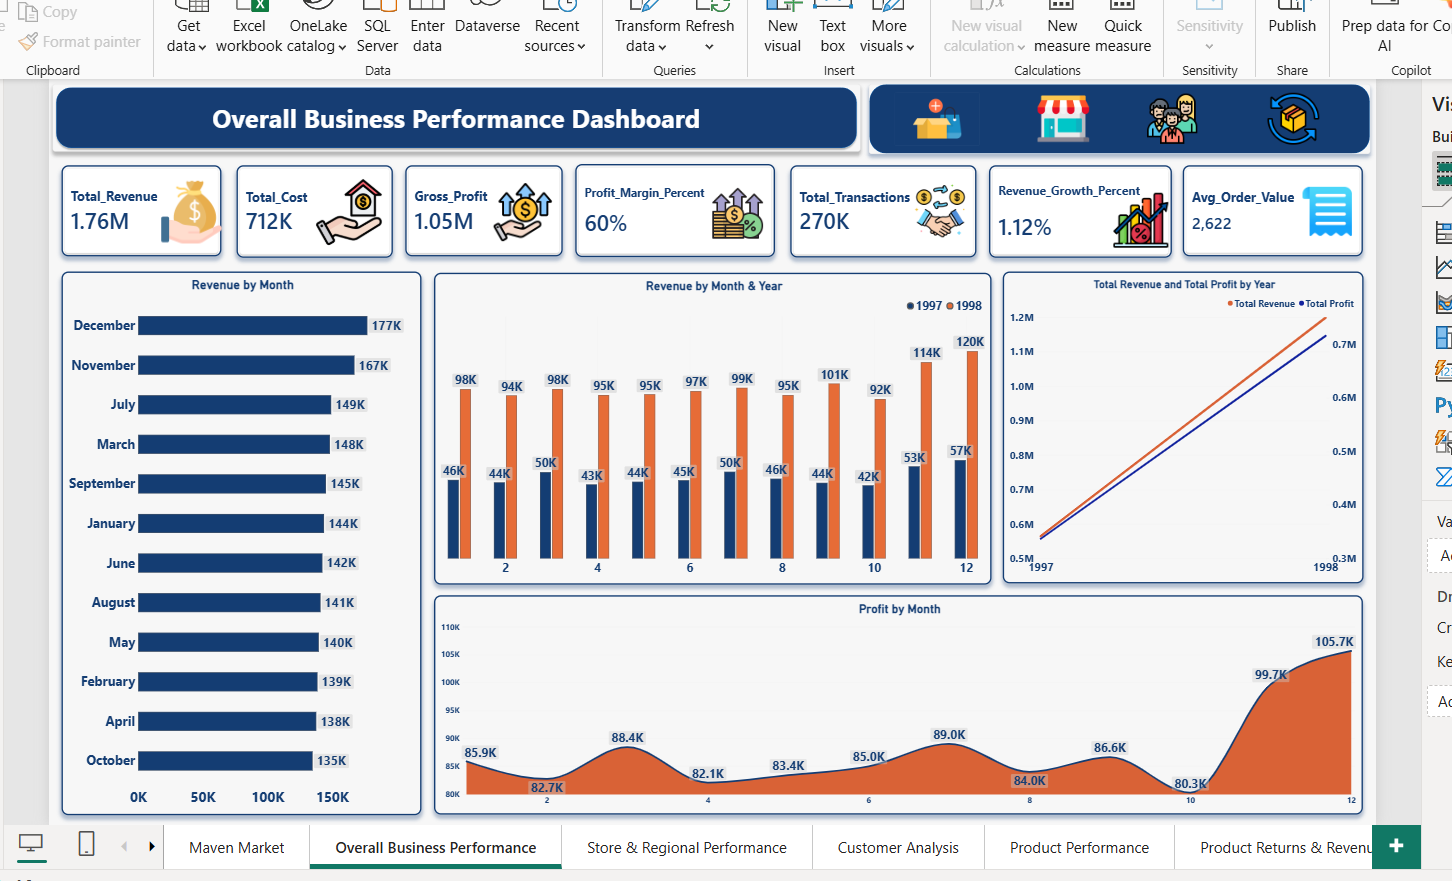

What the dashboard file says about the page in this screenshot:
{"tool":"powerbi","page":{"name":"Overall Business Performance","canvas":[3840,2160],"ordinal":1},"visuals":[{"type":"shape","box":[10.9,14.5,2338.1,195.4],"z":0},{"type":"cardVisual","fields":{"Data":["Sum(A_Query1.Total_Revenue)"]},"box":[36.2,249.7,463.3,264.2],"z":1000,"group":"g2"},{"type":"clusteredBarChart","title":"Revenue by Month","fields":{"Category":["A_Query2.Month"],"Y":["Sum(A_Query2.Revenue)"]},"box":[36.2,557.4,1042.4,1574.4],"z":1000},{"type":"cardVisual","fields":{"Data":["Sum(A_Query1.Total_Cost)"]},"box":[542.9,249.7,452.4,267.8],"z":2000,"group":"g2"},{"type":"clusteredColumnChart","title":"Revenue by Month & Year","fields":{"Category":["A_Query2.Month_Number"],"Series":["A_Query2.Year"],"Y":["Sum(A_Query2.Revenue)"]},"box":[1115.1,559.5,1614.7,903.3],"z":2000},{"type":"cardVisual","fields":{"Data":["Sum(A_Query1.Gross_Profit)"]},"box":[1031.5,250.5,456,264.2],"z":3000,"group":"g4"},{"type":"lineChart","fields":{"Category":["A_Query2.Year"],"Y":["Sum(A_Query2.Revenue)"],"Y2":["Sum(A_Query2.Profit)"]},"box":[2760.8,557.7,1044.6,903.3],"z":3000},{"type":"cardVisual","fields":{"Data":["Sum(A_Query1.Profit_Margin_Percent)"]},"box":[1523.8,246.2,578.3,269.6],"z":4000},{"type":"cardVisual","fields":{"Data":["Sum(Total Trans.Total_Transactions)"]},"box":[2146.3,249.7,539.5,267.5],"z":5000,"group":"g5"},{"type":"areaChart","title":"Profit by Month","fields":{"Category":["A_Query2.Month_Number"],"Y":["Sum(A_Query2.Profit)"]},"box":[1115.1,1494.8,2689.8,635.5],"z":5000},{"type":"group","id":"g1","title":"Group 1","box":[2374.3,14.5,1451.3,202.7],"z":6000},{"type":"cardVisual","fields":{"Data":["Min(A_Query5.Revenue_Growth_Percent)"]},"box":[2721.5,249.7,529.3,267.8],"z":6000,"group":"g6"},{"type":"group","id":"g2","title":"Group 3","box":[36.2,249.7,959.1,267.8],"z":7000},{"type":"cardVisual","fields":{"Data":["Sum(AOV.Average_Order_Value)"]},"box":[3282.4,249.7,521.6,263.9],"z":7000,"group":"g3"},{"type":"group","id":"g3","title":"Group 8","box":[2146.3,249.7,1657.6,267.8],"z":8000},{"type":"image","box":[1918.4,281.3,152,213.5],"z":9000},{"type":"group","id":"g4","title":"Group 4","box":[1031.5,250.5,456,264.2],"z":10000},{"type":"image","box":[320.4,277.4,181,213.5],"z":12000,"group":"g2"},{"type":"image","box":[1284.9,279.5,173.7,213.5],"z":13000,"group":"g4"},{"type":"image","box":[2503.6,275,153.6,213.3],"z":15000,"group":"g5"},{"type":"image","box":[3039.4,329.2,242.9,159.1],"z":16000,"group":"g6"},{"type":"image","box":[3619.3,279.3,163.3,209.3],"z":17000,"group":"g3"},{"type":"image","box":[770.9,278.7,195.4,213.5],"z":18000,"group":"g2"},{"type":"shape","box":[2374.3,14.5,1451.3,202.7],"z":19000,"group":"g1"},{"type":"image","box":[2450.3,40.8,242.5,150.1],"z":20000,"group":"g1"},{"type":"image","box":[2823.1,40.8,228,150.1],"z":21000,"group":"g1"},{"type":"image","box":[3101.8,40.8,300.4,150.1],"z":22000,"group":"g1"},{"type":"image","box":[3485.4,40.8,235.3,150.1],"z":23000,"group":"g1"},{"type":"group","id":"g5","title":"Group 6","box":[2146.3,249.7,539.5,267.5],"z":23006,"group":"g6"},{"type":"group","id":"g6","title":"Group 7","box":[2146.3,249.7,1136.1,267.8],"z":23007,"group":"g3"}]}

Visuals, with their boxes on the page's 3840x2160 design canvas (x1, y1, x2, y2). These are canvas units, not pixel positions in the 1452x881 screenshot, which may show the page scaled, cropped or inside an application window:
shape: crop(11, 14, 2349, 210)
cardVisual - Sum(A_Query1.Total_Revenue): crop(36, 250, 500, 514)
"Revenue by Month" clusteredBarChart: crop(36, 557, 1079, 2132)
cardVisual - Sum(A_Query1.Total_Cost): crop(543, 250, 995, 518)
"Revenue by Month & Year" clusteredColumnChart: crop(1115, 560, 2730, 1463)
cardVisual - Sum(A_Query1.Gross_Profit): crop(1032, 250, 1488, 515)
lineChart - A_Query2.Year x Sum(A_Query2.Revenue): crop(2761, 558, 3805, 1461)
cardVisual - Sum(A_Query1.Profit_Margin_Percent): crop(1524, 246, 2102, 516)
cardVisual - Sum(Total Trans.Total_Transactions): crop(2146, 250, 2686, 517)
"Profit by Month" areaChart: crop(1115, 1495, 3805, 2130)
"Group 1" group: crop(2374, 14, 3826, 217)
cardVisual - Min(A_Query5.Revenue_Growth_Percent): crop(2722, 250, 3251, 518)
"Group 3" group: crop(36, 250, 995, 518)
cardVisual - Sum(AOV.Average_Order_Value): crop(3282, 250, 3804, 514)
"Group 8" group: crop(2146, 250, 3804, 518)
image: crop(1918, 281, 2070, 495)
"Group 4" group: crop(1032, 250, 1488, 515)
image: crop(320, 277, 501, 491)
image: crop(1285, 280, 1459, 493)
image: crop(2504, 275, 2657, 488)
image: crop(3039, 329, 3282, 488)
image: crop(3619, 279, 3783, 489)
image: crop(771, 279, 966, 492)
shape: crop(2374, 14, 3826, 217)
image: crop(2450, 41, 2693, 191)
image: crop(2823, 41, 3051, 191)
image: crop(3102, 41, 3402, 191)
image: crop(3485, 41, 3721, 191)
"Group 6" group: crop(2146, 250, 2686, 517)
"Group 7" group: crop(2146, 250, 3282, 518)
